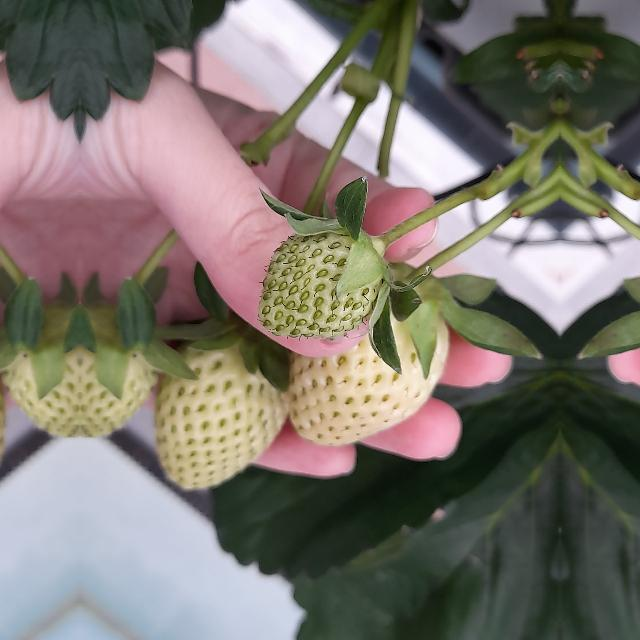Health_25: (285, 274, 481, 442), (154, 298, 288, 490), (257, 232, 381, 338), (80, 292, 158, 442), (2, 292, 80, 442)
